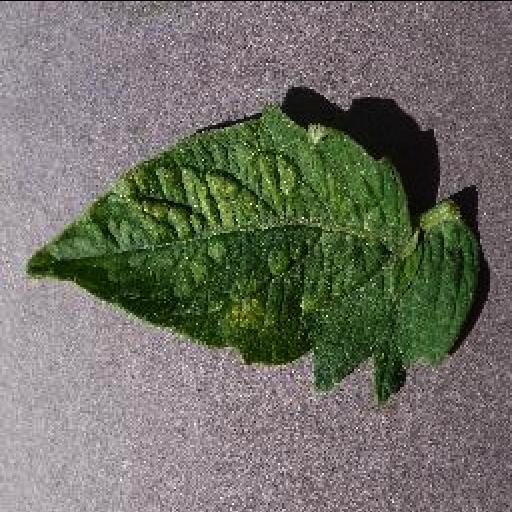disease_tomato: (24, 100, 482, 406)
